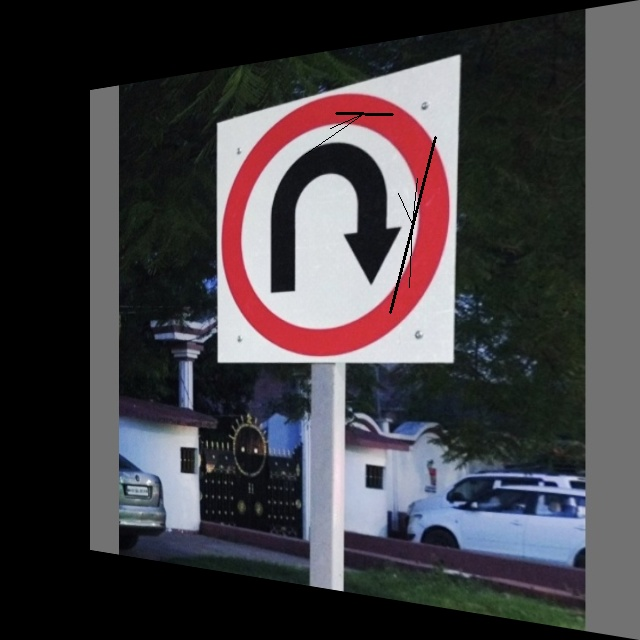U_Turn_Ahead: (213, 84, 453, 356)
